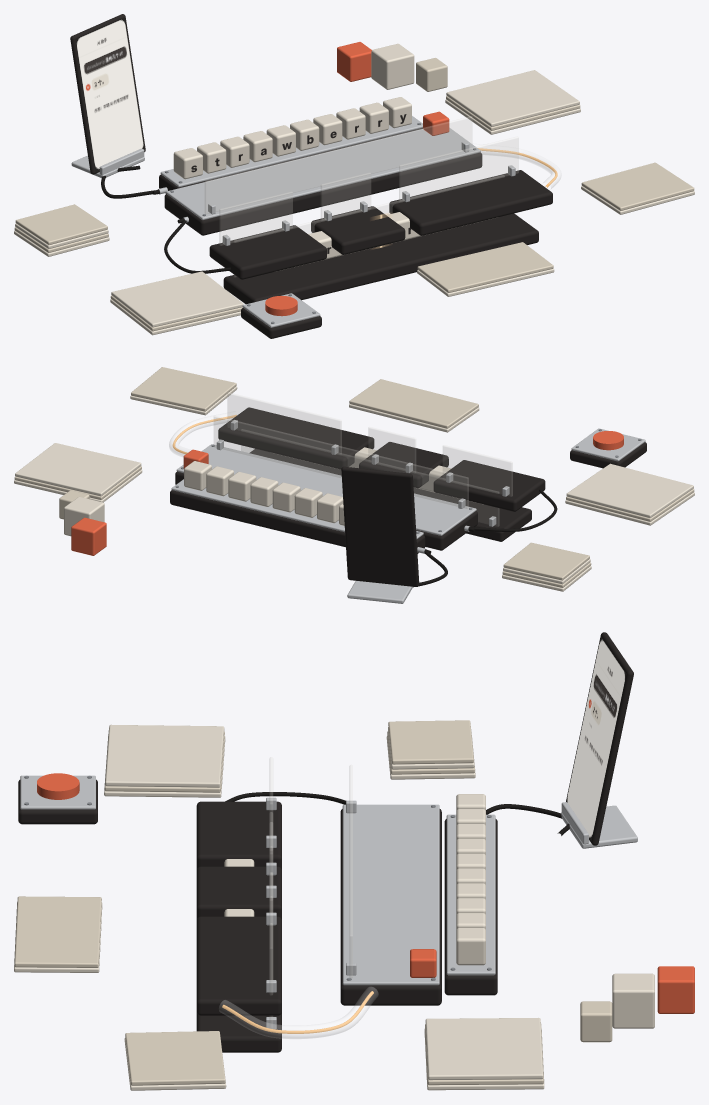
3 views of the same model, one above another, from view 1: azimuth 30°, elevation 25°; view 2: azimuth 150°, elevation 25°; view 3: azimuth 270°, elevation 25° (orthographic). The views are drawn at different scales.
Visible parts, largest first — view 1: tokenizer, mergedPad, pad_2, screen, pad_0, pad_1, object 28, object 31, object 39, object 33, tray, object 37 (+25 smaller); view 2: tokenizer, phone, pad_2, pad_0, tray, object 28, object 31, object 39, mergedPad, object 33, pad_1, object 37 (+23 smaller); view 3: tokenizer, pad_2, object 31, object 28, object 39, screen, pad_0, tray, object 33, pad_1, object 37, phone (+14 smaller).
Boxes of the visible parts, x1,y1,x2,y2 form: tokenizer: (164,116,482,235); mergedPad: (223,175,538,304); pad_2: (389,137,552,235); screen: (75,17,144,171); pad_0: (209,192,326,279); pad_1: (311,173,405,254); object 28: (446,70,579,126); object 31: (111,271,243,327); object 39: (417,242,553,292); object 33: (581,162,694,210); tray: (159,116,422,193); object 37: (15,204,107,244); tokenizer: (175,416,477,550); phone: (341,466,419,603); pad_2: (218,393,374,469); pad_0: (433,445,545,511); tray: (170,479,425,553); object 28: (15,443,141,496); object 31: (566,463,693,517); object 39: (349,379,478,428); mergedPad: (241,430,531,541); object 33: (131,367,236,411); pad_1: (359,427,448,488); object 37: (503,542,589,580); tokenizer: (340,765,441,1005); pad_2: (196,872,281,1015); object 31: (105,724,224,787); object 28: (425,1018,543,1080); object 39: (14,896,101,967); screen: (566,636,626,841); pad_0: (196,757,281,868); tray: (444,814,497,995); object 33: (125,1031,225,1085); pad_1: (196,822,281,918); object 37: (388,720,473,764); phone: (560,632,637,848).
Size of what is drawn, in the model's own units: 15.67 by 4.6 by 12.78.
60 materials, 32 textured.
